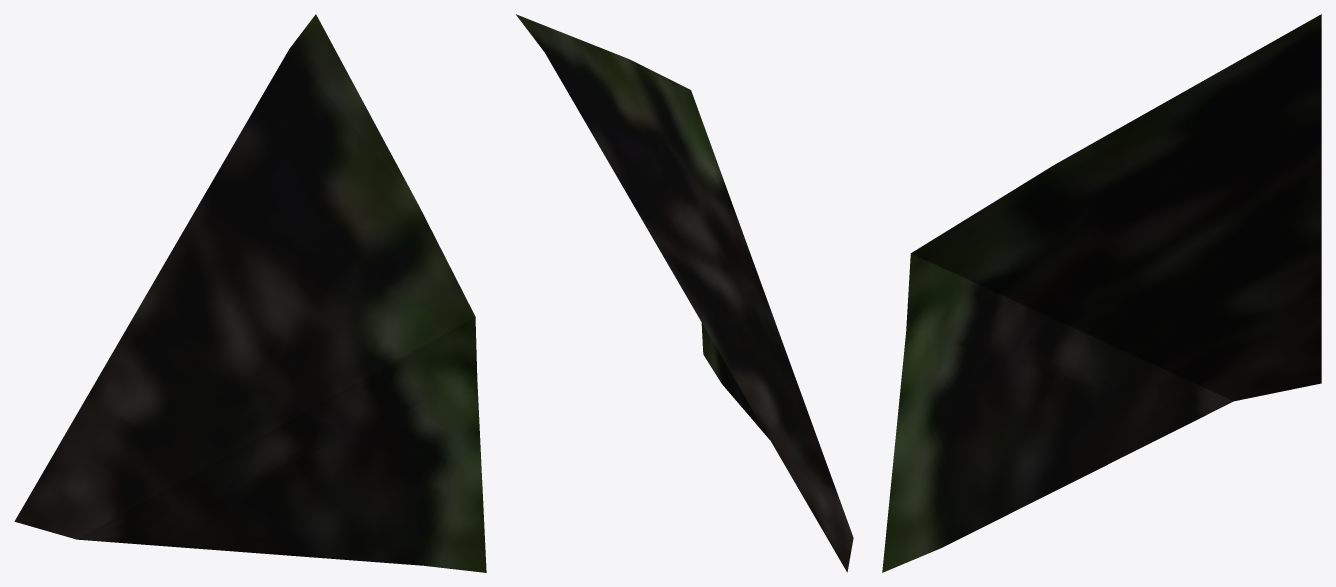
The picture shows the model from 3 angles, left to right: view 1: azimuth 30°, elevation 25°; view 2: azimuth 150°, elevation 25°; view 3: azimuth 270°, elevation 25°; orthographic projection. The views are drawn at different scales.
Size of the model in its own units: 0.3467 by 0.4768 by 0.3397.
1 material, 1 textured.
